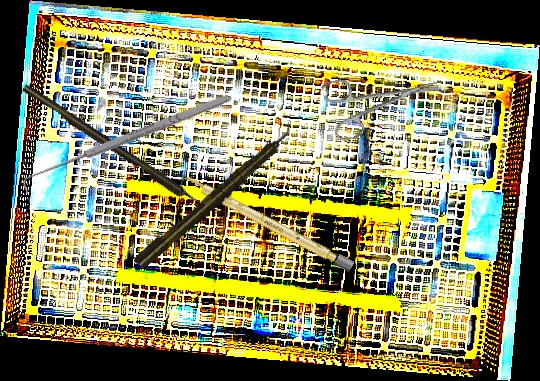Handpiece: (130, 121, 301, 273)
Hook Surgical: (21, 82, 212, 216), (19, 90, 234, 195)
Iris Scissors: (320, 57, 447, 144)
Scalpel Handle: (179, 171, 355, 273)
